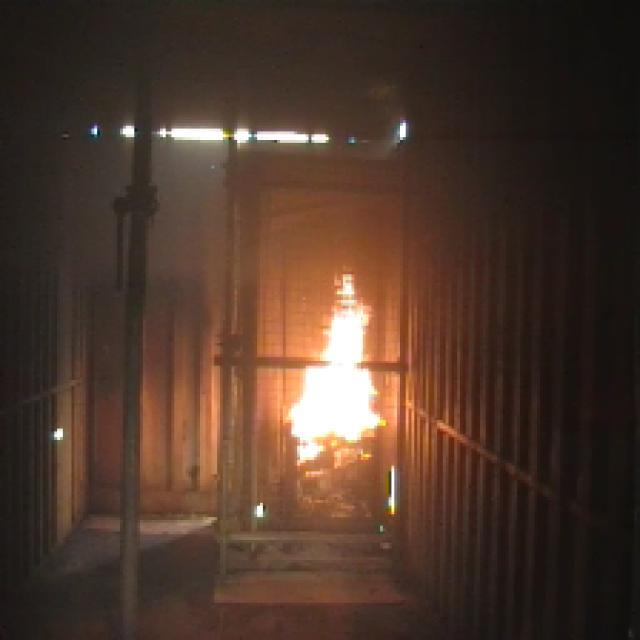Fire: (286, 277, 384, 453)
